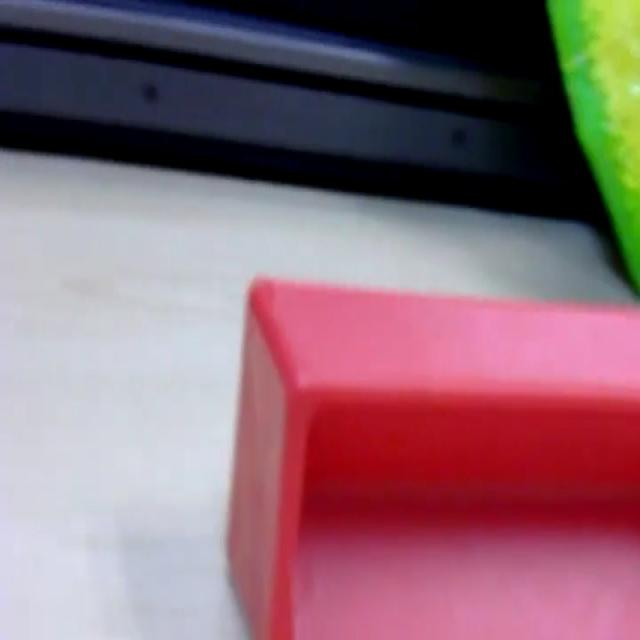red_block: (225, 271, 639, 636)
